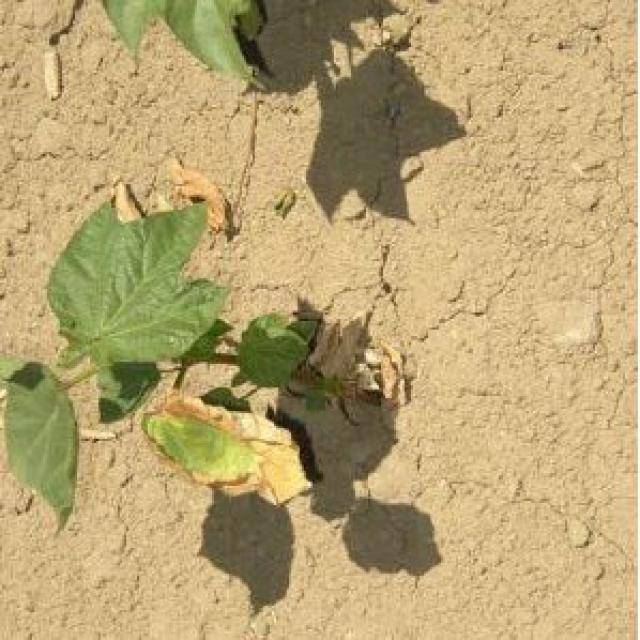Fusarium Wilt: (38, 210, 315, 528)
